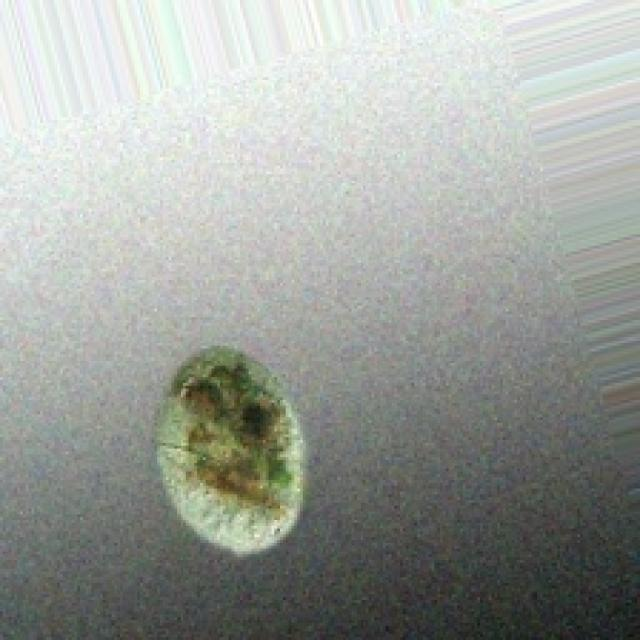Amoeba: (151, 340, 306, 554)
